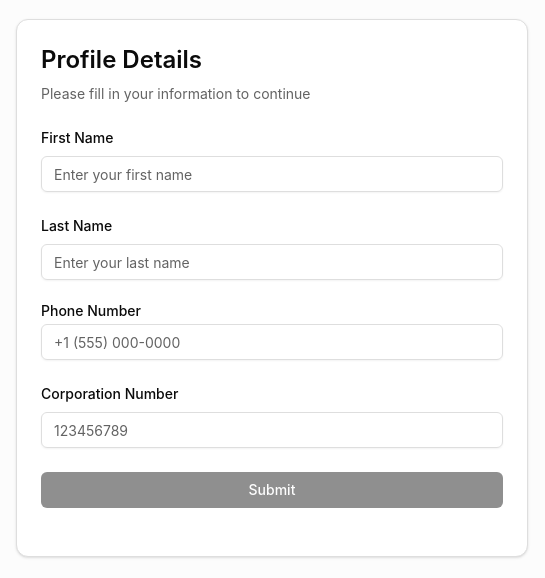
Test: Input Interaction Issues › Phone number error messages › should show 'Invalid' when invalid format is entered
Note: Enter invalid phone number
Type "123" into the field labelled "Phone Number". click: (272, 342)
box: [41,324,503,360]
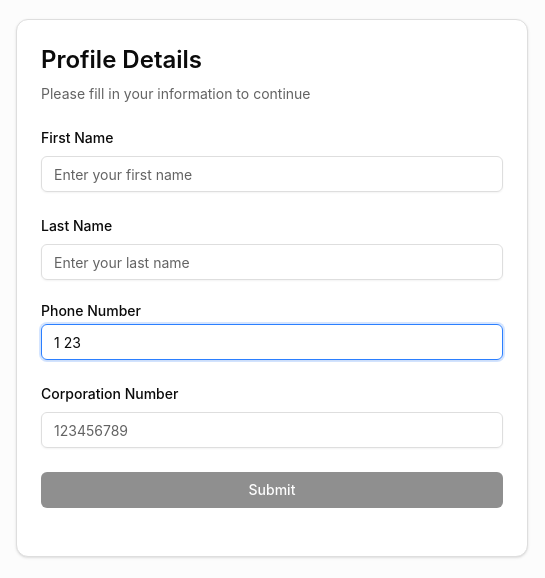
Press Tab
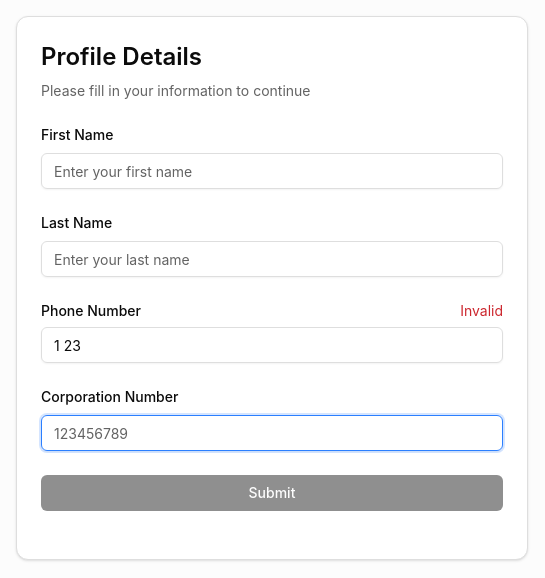
Expected: the text "Invalid" is shown, [460,301,503,321]
